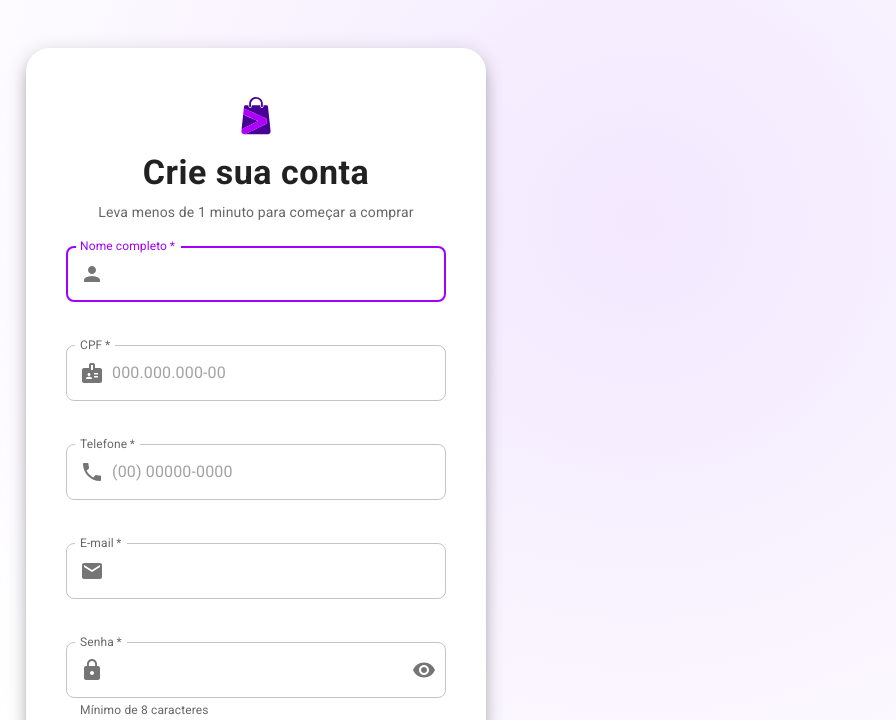
Test: Register › formata telefone (celular 11 dígitos)
Type "11987654321" into the field labelled "Telefone *" at (279,472), box [112,444,446,500]
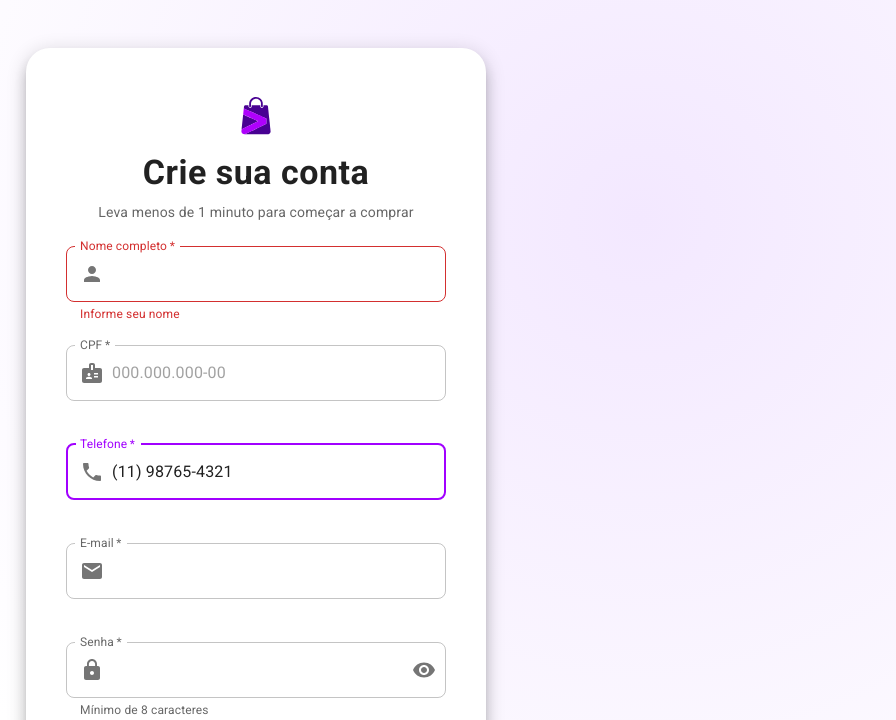
Check: the field labelled "Telefone *" holds "(11) 98765-4321", box [112,444,446,500]
